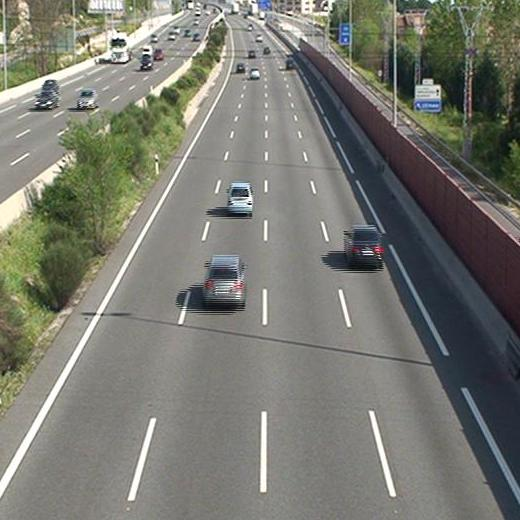car: (203, 256, 244, 305), (345, 227, 382, 268), (226, 183, 252, 215), (235, 63, 245, 74), (285, 59, 295, 70), (249, 68, 259, 78), (247, 50, 255, 59)
